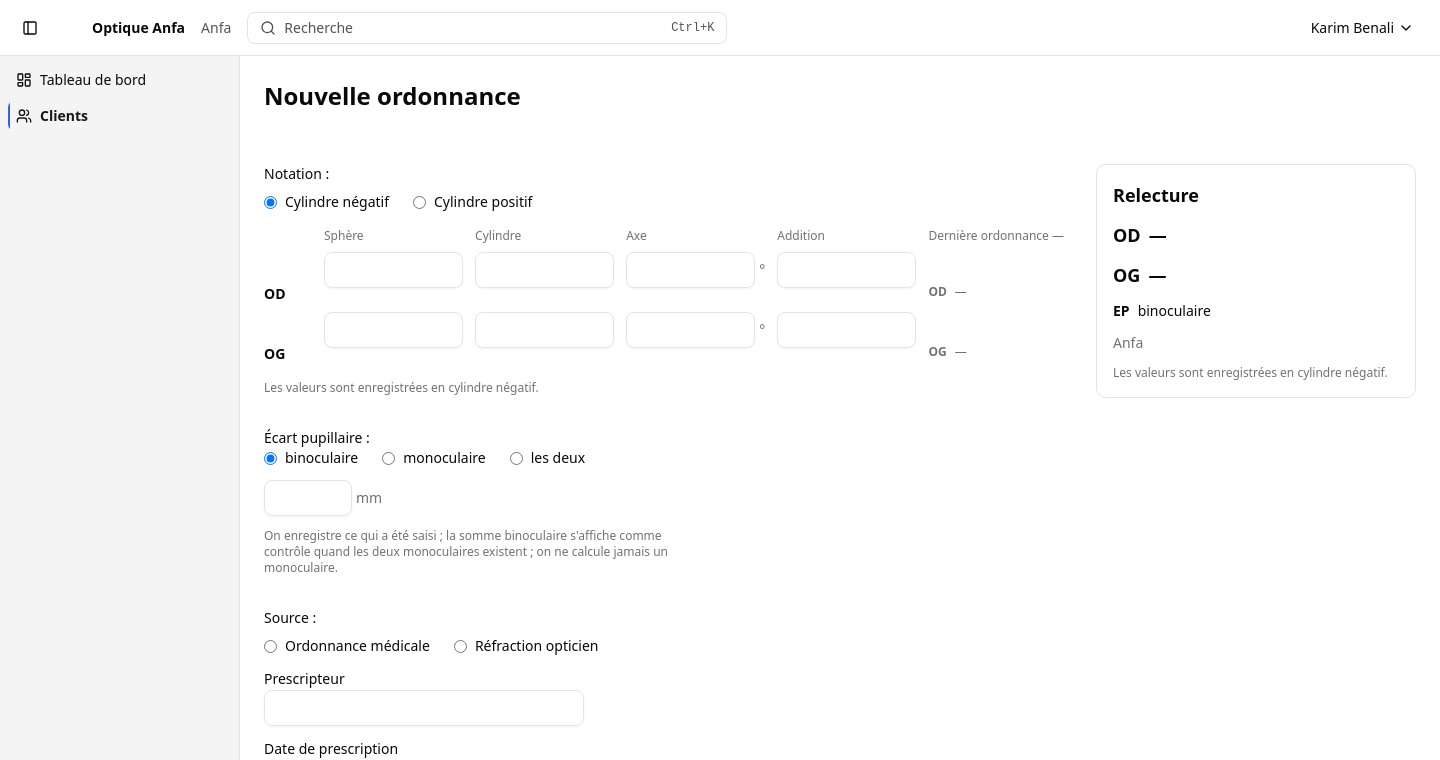
la bascule de notation (CLIENT-08, 20.3) › client08_basculer_transpose_les_valeurs_DEJA_TAPEES_sur_place_et_l_annonce
Type "+2,00" into the 1st field named "Sphère de l'œil droit".
click(394, 270); type("+2,00")  # box [324,252,463,288]
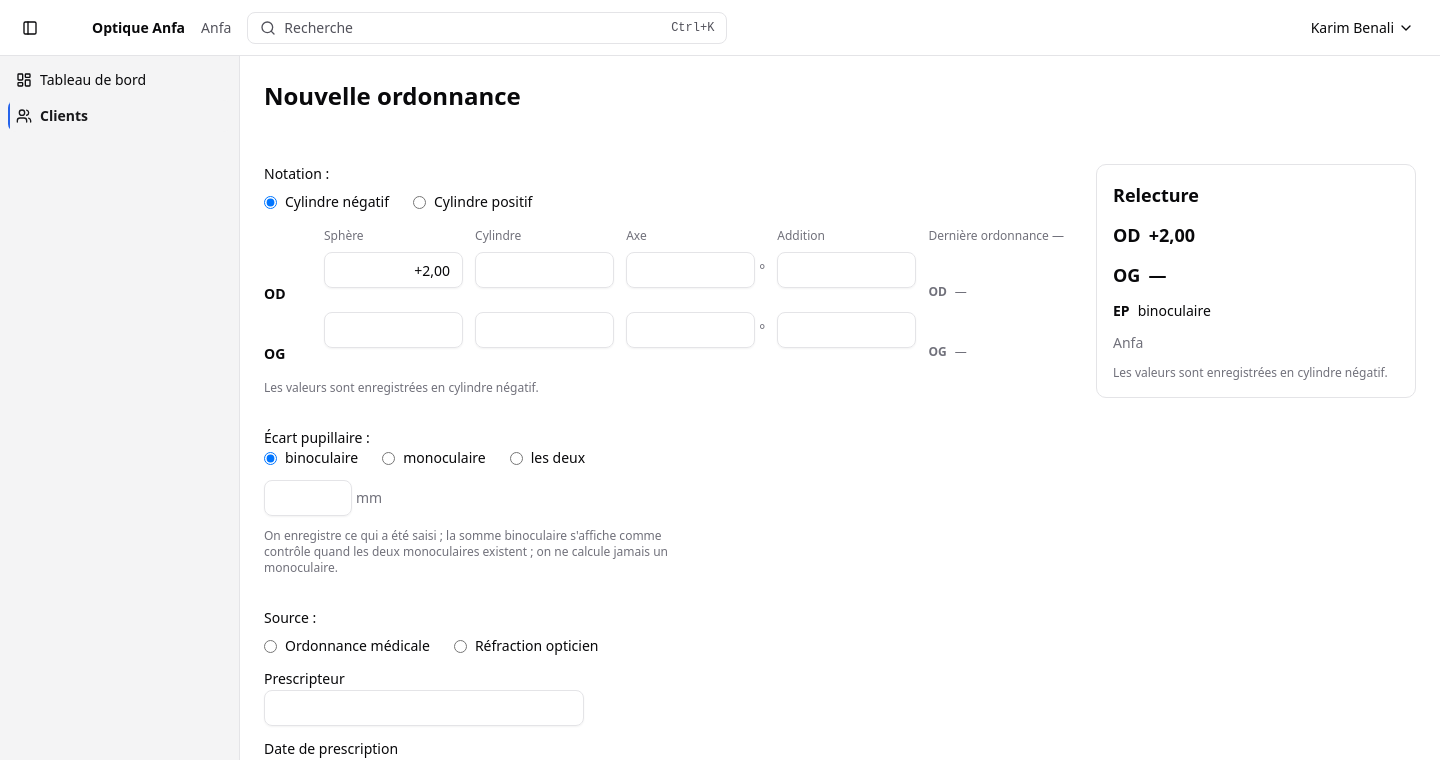
Type "−1,00" into the 2nd field named "Cylindre de l'œil droit".
click(545, 270); type("−1,00")  # box [475,252,614,288]
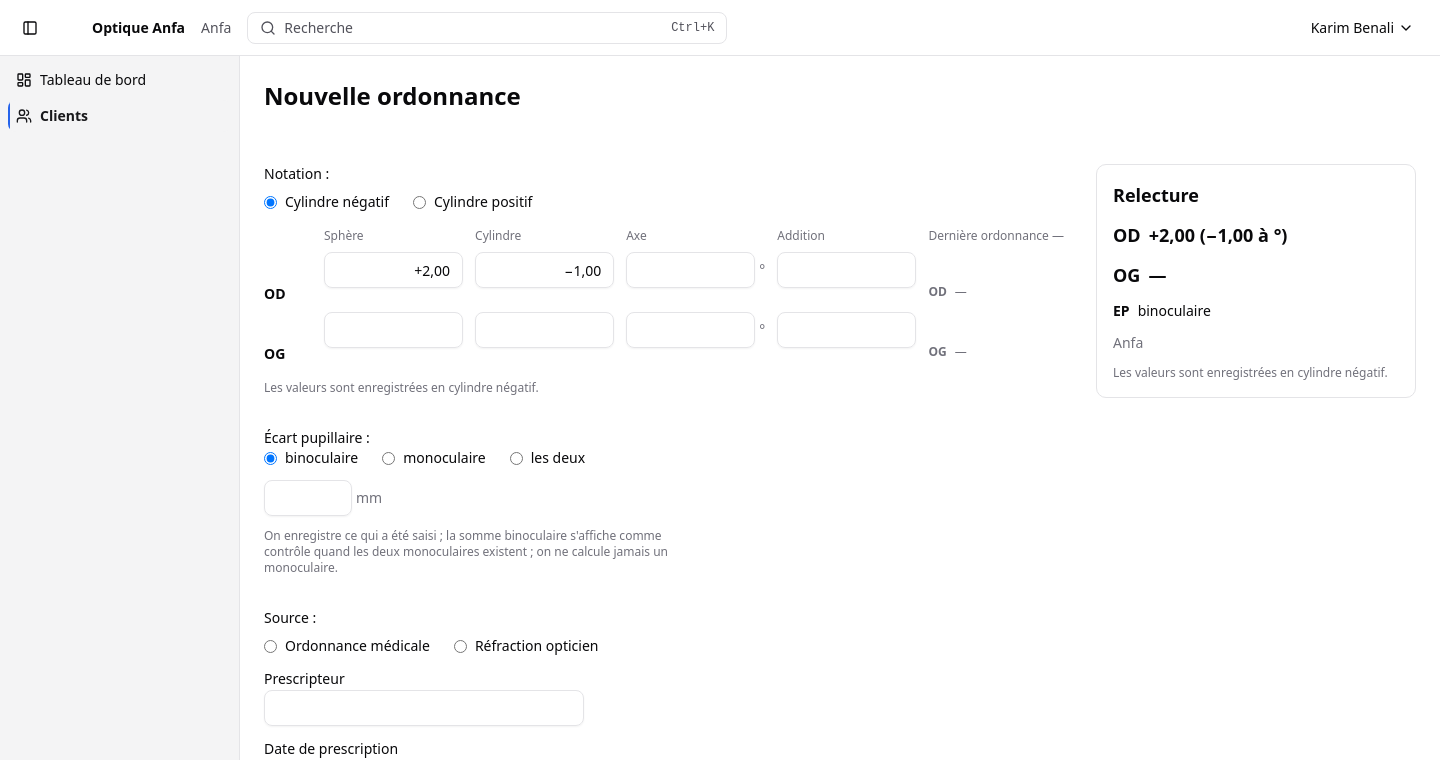
Type "90" into the 3rd field named "Axe de l'œil droit".
click(691, 270); type("90")  # box [626,252,755,288]
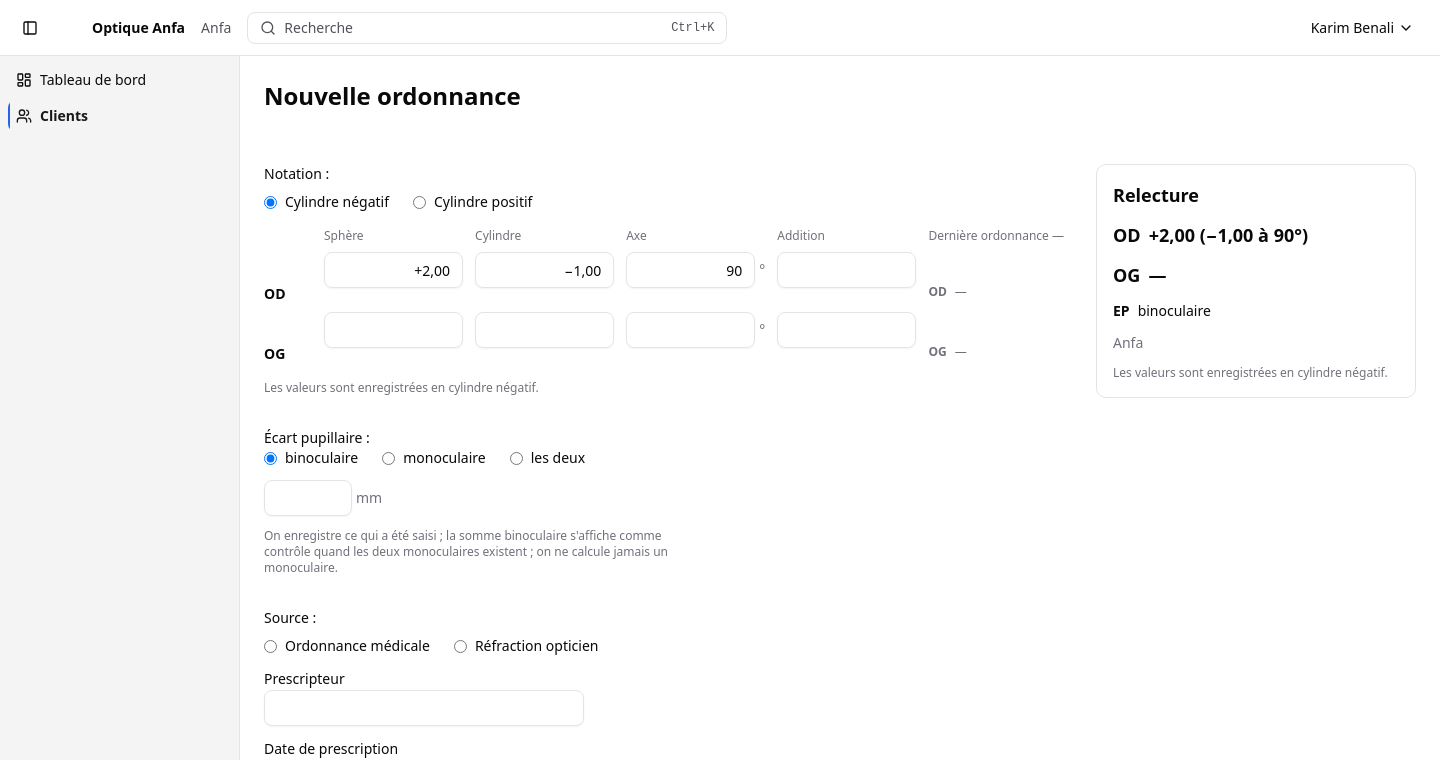
Click the radio button labelled "Cylindre positif".
click(420, 202)  # box [413,196,426,208]
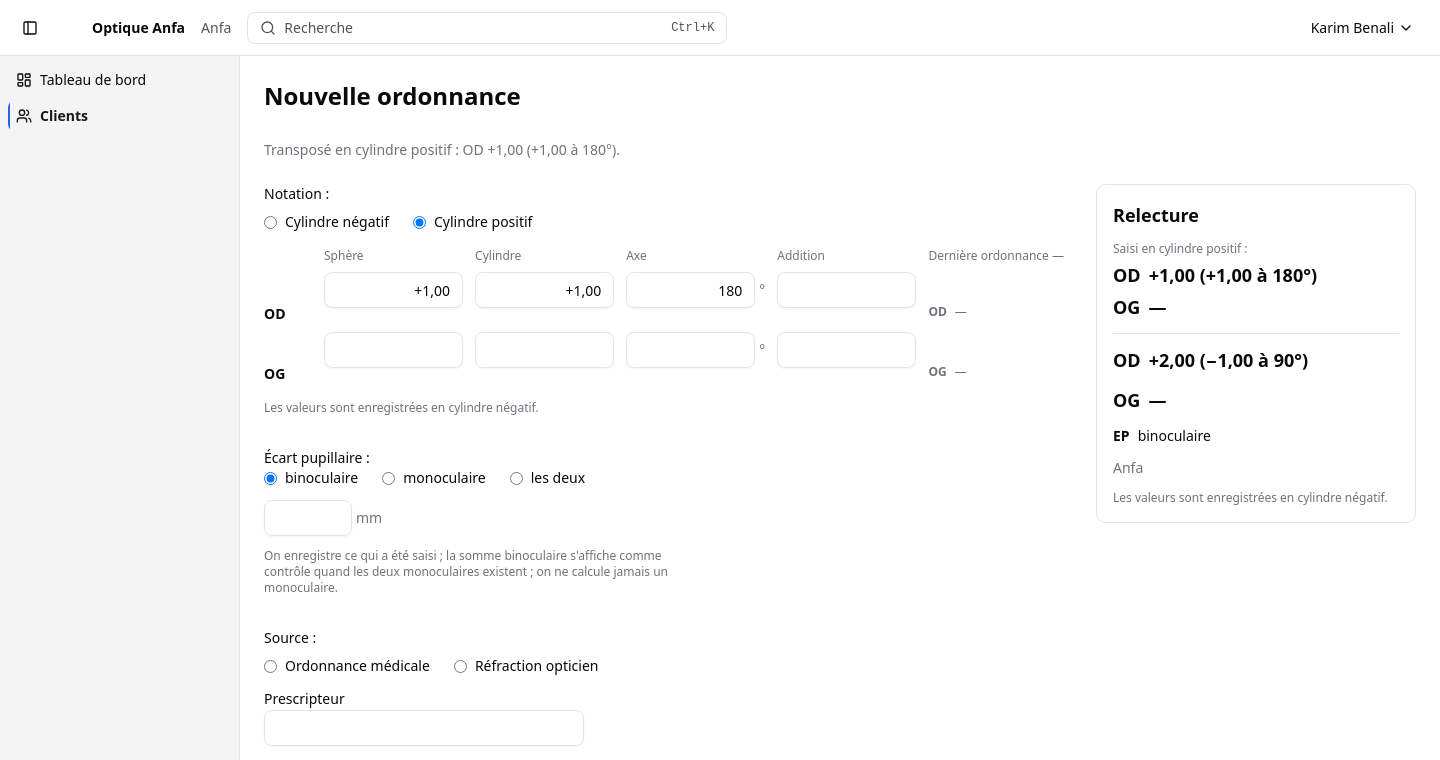
Check: the 1st field named "Sphère de l'œil droit" holds "+1,00", box [324,272,463,308]
Check: the 2nd field named "Cylindre de l'œil droit" holds "+1,00", box [475,272,614,308]
Check: the 3rd field named "Axe de l'œil droit" holds "180", box [626,272,755,308]
